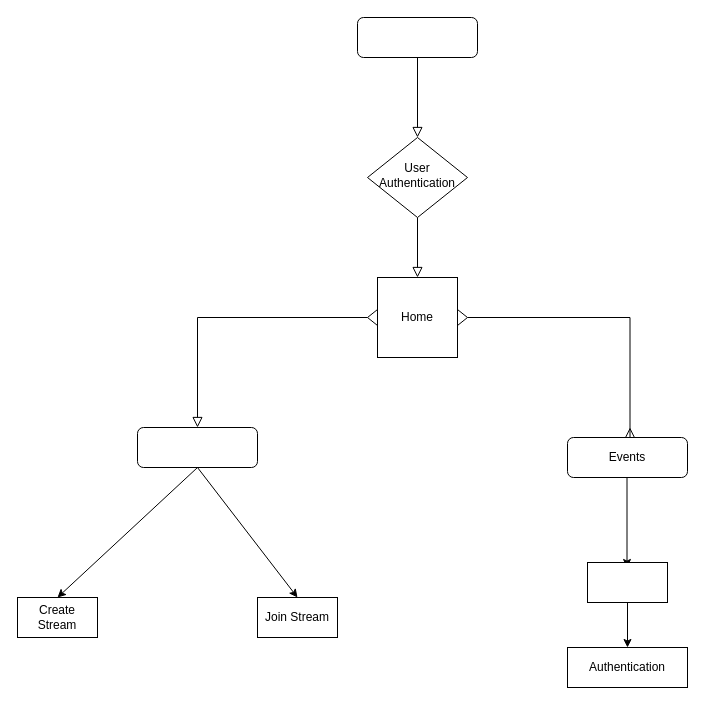
Some shapes in this 705 by 705 pixel diagram are drawn without their labels. Each missing label, with the centre of its shape:
Create Event: the point at 627,582
Login: the point at 417,37
Streams: the point at 197,447
